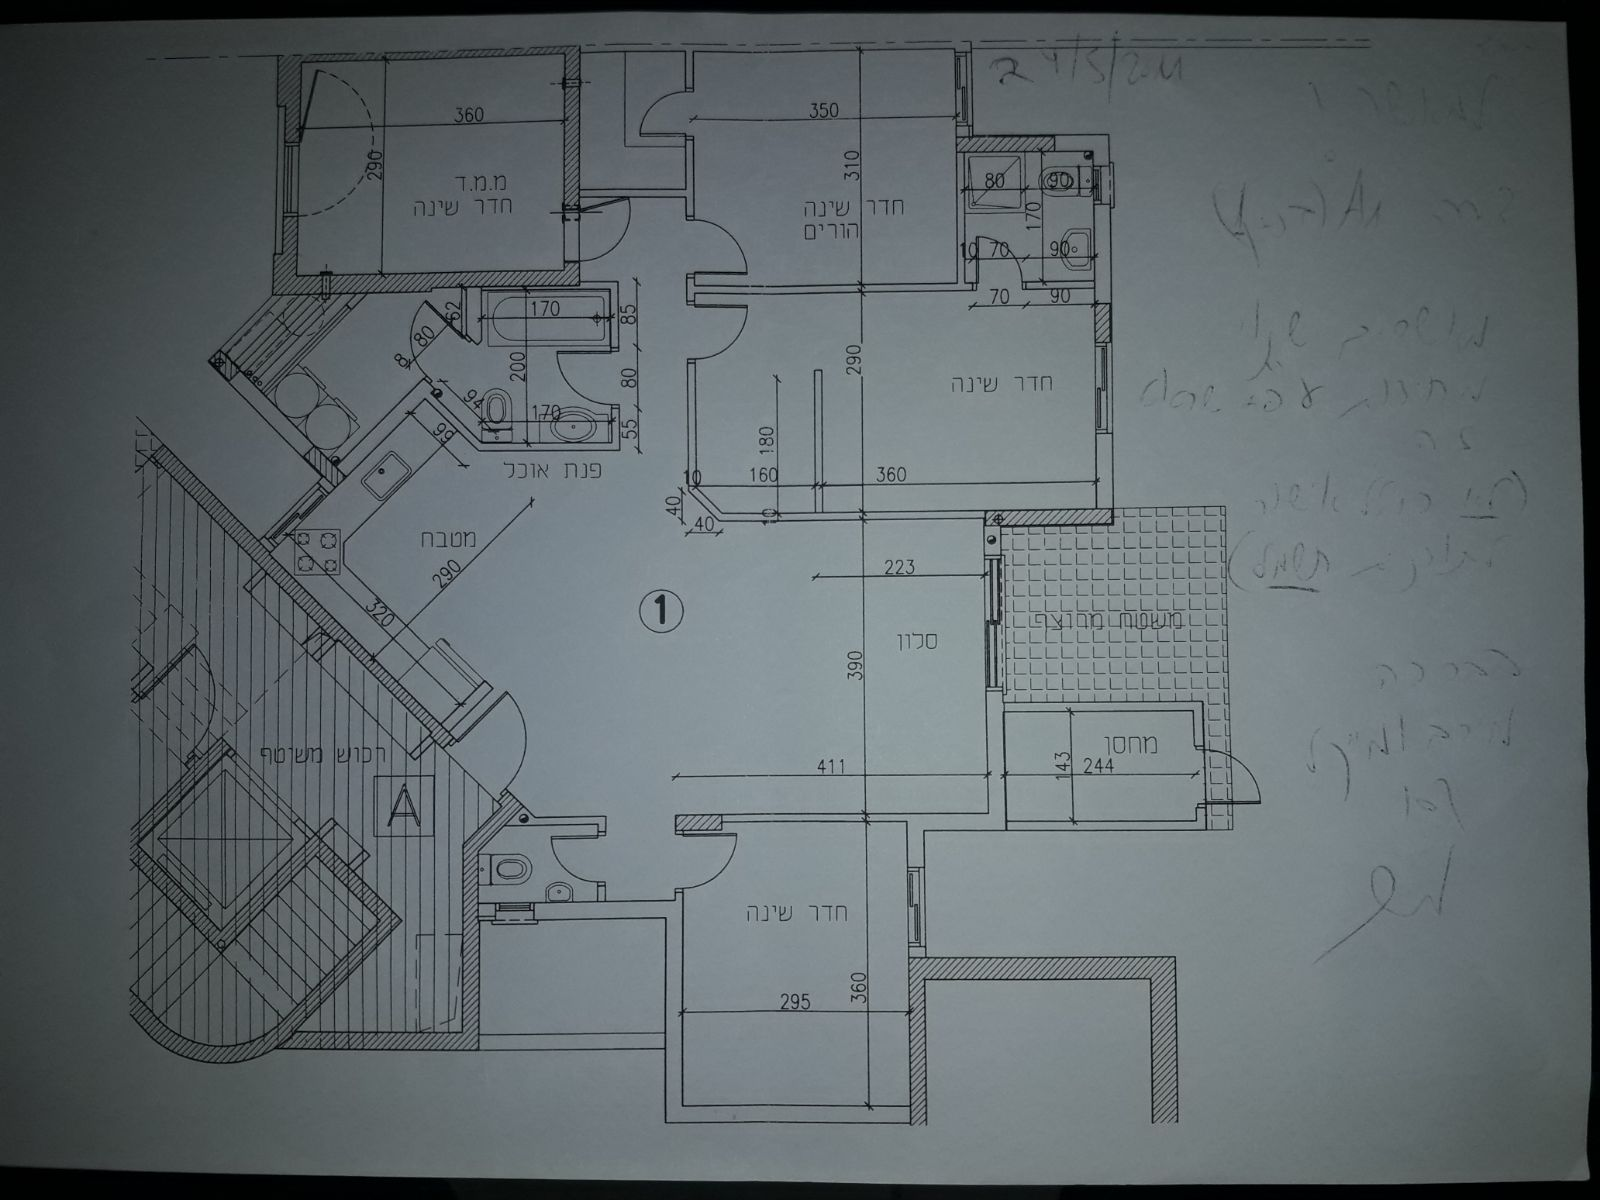door: (1193, 747, 1277, 808), (543, 828, 625, 884), (693, 300, 756, 371), (678, 829, 747, 891)
